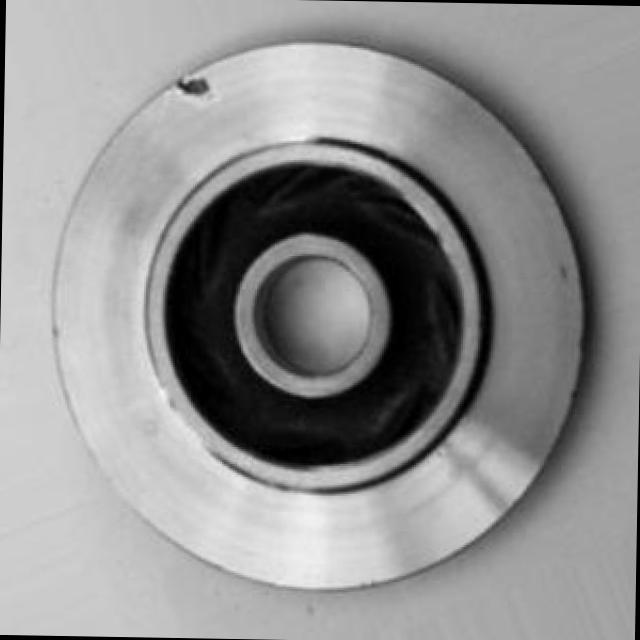Defect: (171, 68, 224, 102)
